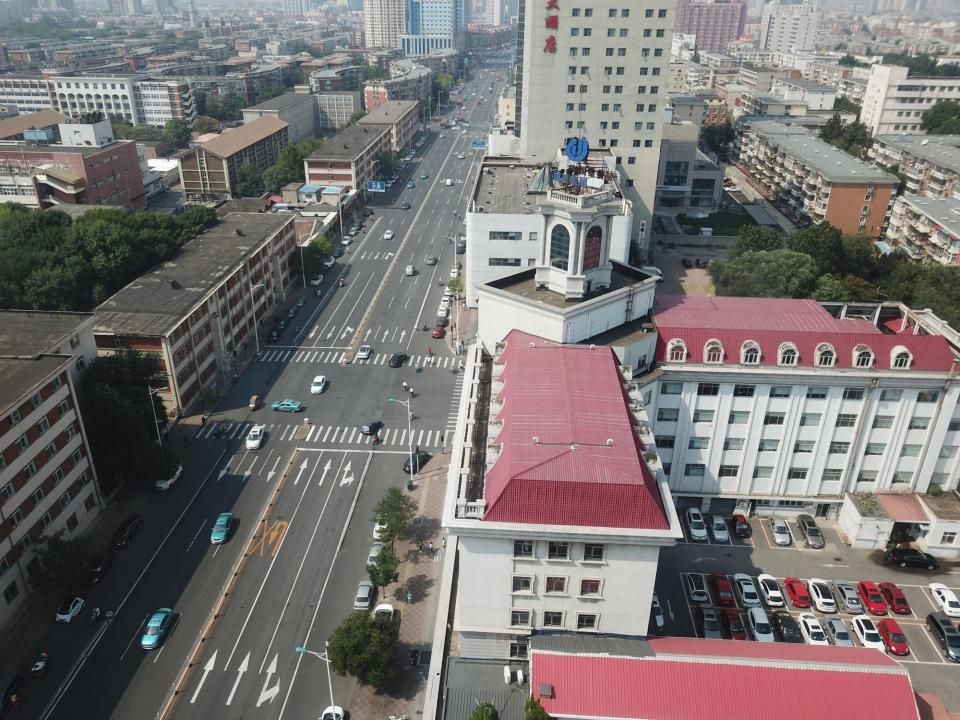car: (925, 611, 959, 667), (138, 607, 172, 652), (850, 615, 885, 654), (877, 618, 911, 656), (82, 548, 114, 587), (797, 612, 830, 648), (927, 580, 959, 616), (823, 614, 853, 652), (890, 548, 940, 570), (746, 605, 774, 644), (695, 603, 724, 640), (858, 580, 888, 615), (807, 577, 836, 612), (773, 610, 801, 646), (880, 581, 910, 614), (733, 572, 761, 607), (718, 608, 748, 640), (112, 516, 142, 548), (796, 514, 824, 546), (834, 579, 862, 611), (53, 596, 85, 623), (708, 573, 734, 606), (153, 465, 185, 490), (684, 507, 707, 541), (209, 512, 233, 544), (2, 668, 22, 705), (768, 514, 791, 546), (785, 577, 810, 605), (363, 540, 388, 568), (760, 574, 783, 603), (649, 591, 666, 629), (685, 572, 708, 600), (371, 511, 393, 540), (707, 512, 728, 542), (404, 450, 430, 473), (311, 704, 347, 720), (354, 581, 373, 611), (372, 602, 391, 626), (244, 425, 262, 450), (732, 515, 751, 536), (272, 400, 301, 412), (360, 418, 381, 434), (310, 375, 326, 393), (388, 352, 407, 367), (247, 395, 262, 412), (267, 328, 281, 342), (285, 306, 298, 320), (357, 345, 370, 358), (294, 294, 307, 307), (276, 318, 288, 330), (446, 276, 458, 288), (435, 315, 448, 326), (433, 326, 443, 340), (310, 274, 322, 285), (694, 258, 706, 269), (436, 306, 448, 316), (680, 258, 692, 268), (340, 236, 352, 245), (426, 255, 436, 265), (384, 229, 393, 240), (324, 257, 335, 266), (406, 265, 415, 276), (441, 295, 450, 306), (724, 186, 740, 192), (721, 181, 736, 187), (444, 286, 453, 295), (450, 270, 460, 278), (452, 261, 460, 271), (706, 259, 714, 269), (333, 248, 341, 257), (348, 228, 356, 236), (354, 220, 361, 229), (720, 178, 732, 183), (407, 182, 415, 189), (458, 241, 466, 248), (364, 208, 373, 214), (445, 179, 452, 186), (456, 246, 463, 253), (461, 217, 467, 225), (402, 202, 409, 208), (421, 172, 426, 178), (459, 154, 464, 158)
truck: (636, 266, 666, 283)
